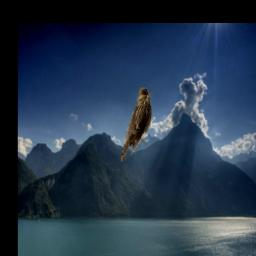Sparrow: (120, 87, 152, 161)
